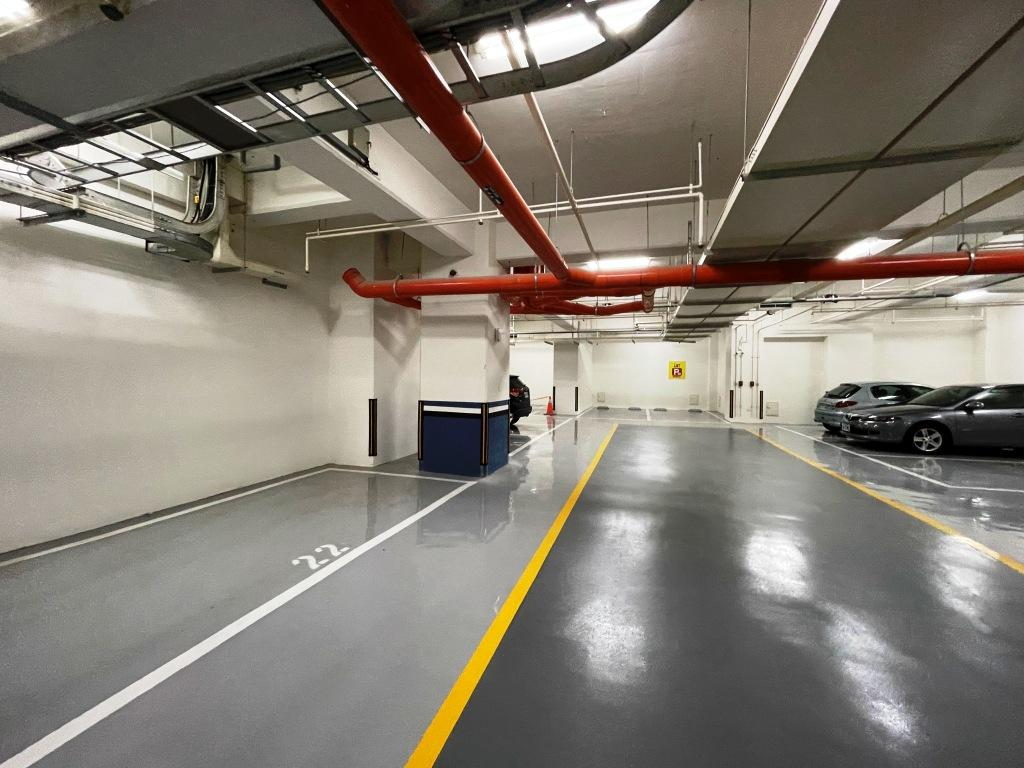car: (843, 383, 1024, 456), (811, 374, 934, 431), (510, 366, 538, 440)
